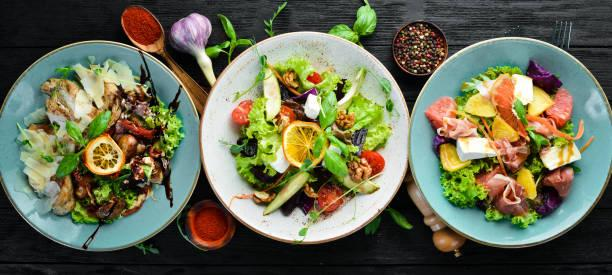Braised Crucian Carp: (198, 28, 405, 247), (406, 36, 610, 252), (3, 39, 200, 254)
